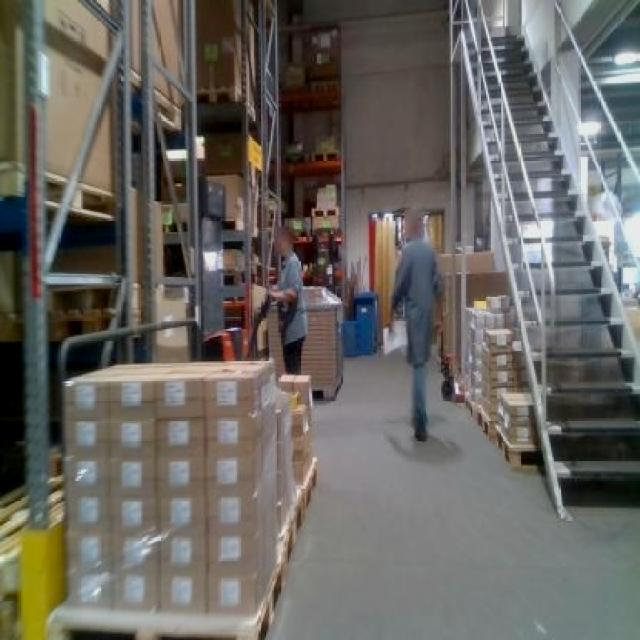pallets: (46, 358, 314, 637), (300, 285, 340, 397)
